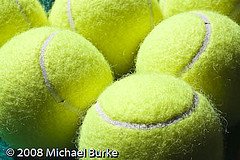tennis ball: (1, 24, 115, 149), (76, 70, 227, 160), (133, 9, 240, 127)
